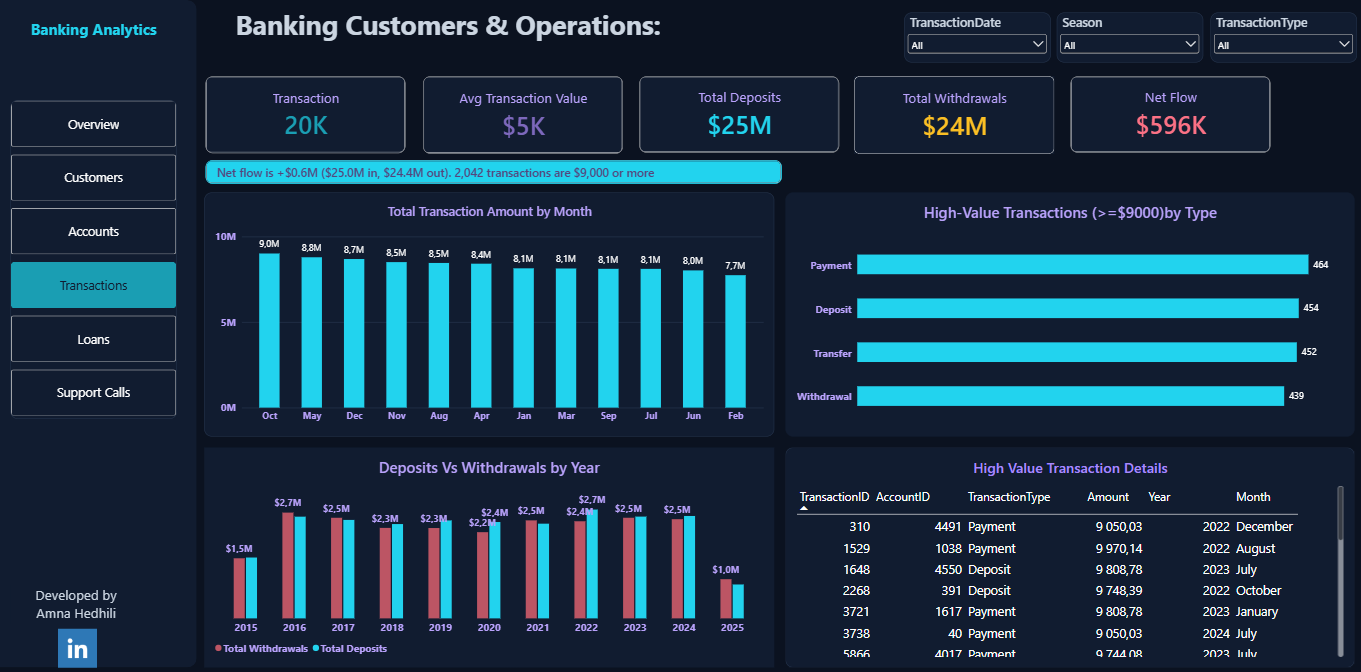

Layout of this report page (visuals, bound fields, positions):
{"tool":"powerbi","page":{"name":"Transactions","canvas":[2200,1080],"ordinal":3},"visuals":[{"type":"cardVisual","fields":{"Data":["Measures Table.Transaction"]},"box":[348,122,320,123],"z":0},{"type":"textbox","box":[396,10,826,100],"z":1000},{"type":"cardVisual","title":"Valid Cards","fields":{"Data":["Transactions Measures.Total Withdrawals"]},"box":[1386.2,122,320,124],"z":2000},{"type":"cardVisual","fields":{"Data":["Transactions Measures.Avg Transaction Value"]},"box":[696.2,122,320,124],"z":3000},{"type":"cardVisual","fields":{"Data":["Transactions Measures.Total Deposits"]},"box":[1041.2,122,320,122],"z":4000},{"type":"cardVisual","fields":{"Data":["Transactions Measures.Net Flow"]},"box":[1731.2,122,320,122],"z":5000},{"type":"clusteredColumnChart","title":"Total Transaction Amount by Month ","fields":{"Category":["transactions.Month Name"],"Y":["Transactions Measures.Total Amount"]},"box":[346,308,912,390],"z":6000},{"type":"slicer","fields":{"Values":["transactions.TransactionDate"]},"box":[1465.6,20,234,80],"z":7000},{"type":"slicer","fields":{"Values":["transactions.Season"]},"box":[1710.6,20,234,80],"z":8000},{"type":"slicer","fields":{"Values":["transactions.TransactionType"]},"box":[1955.6,20,234,80],"z":9000},{"type":"clusteredBarChart","title":"High-Value Transactions (>=$9000)by Type","fields":{"Category":["transactions.TransactionType"],"Y":["Transactions Measures.High-Value Transactions"]},"box":[1276,308,910,390],"z":10000},{"type":"shape","box":[4,0,330,1068],"z":11000},{"type":"textbox","box":[20,30,298,100],"z":12000},{"type":"tableEx","title":"High Value Transaction Details","fields":{"Values":["transactions.TransactionID","accounts.AccountID","transactions.TransactionType","transactions.Amount","transactions.TransactionDate.Variation.Date Hierarchy.Year","transactions.TransactionDate.Variation.Date Hierarchy.Month"]},"box":[1276,716,910,352],"z":13000},{"type":"clusteredColumnChart","title":"Deposits Vs Withdrawals by Year","fields":{"Category":["Calendar.Year"],"Y":["Transactions Measures.Total Withdrawals","Transactions Measures.Total Deposits"]},"box":[346,716,912,352],"z":14000},{"type":"pageNavigator","box":[36,160,266,510],"z":15000},{"type":"textbox","box":[36,936,210,64],"z":15001},{"type":"cardVisual","fields":{"Data":["Transactions Measures.Transactions Takeaway"]},"box":[348,255,922,38],"z":15002},{"type":"image","box":[108,1006,70,62],"z":15003}]}

Visuals, with their boxes in screenshot pixels (x1, y1, x2, y2), scaled from the page's 2200x1080 canvas onto the 1361x672 screenshot:
cardVisual - Measures Table.Transaction: region(215, 76, 413, 152)
textbox: region(245, 6, 756, 68)
"Valid Cards" cardVisual: region(858, 76, 1056, 153)
cardVisual - Transactions Measures.Avg Transaction Value: region(431, 76, 629, 153)
cardVisual - Transactions Measures.Total Deposits: region(644, 76, 842, 152)
cardVisual - Transactions Measures.Net Flow: region(1071, 76, 1269, 152)
"Total Transaction Amount by Month " clusteredColumnChart: region(214, 192, 778, 434)
slicer - transactions.TransactionDate: region(907, 12, 1051, 62)
slicer - transactions.Season: region(1058, 12, 1203, 62)
slicer - transactions.TransactionType: region(1210, 12, 1355, 62)
"High-Value Transactions (>=$9000)by Type" clusteredBarChart: region(789, 192, 1352, 434)
shape: region(2, 0, 207, 665)
textbox: region(12, 19, 197, 81)
"High Value Transaction Details" tableEx: region(789, 446, 1352, 665)
"Deposits Vs Withdrawals by Year" clusteredColumnChart: region(214, 446, 778, 665)
pageNavigator: region(22, 100, 187, 417)
textbox: region(22, 582, 152, 622)
cardVisual - Transactions Measures.Transactions Takeaway: region(215, 159, 786, 182)
image: region(67, 626, 110, 665)
